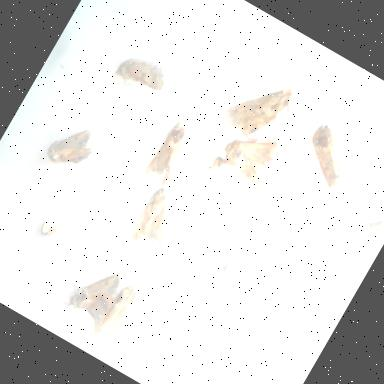abw: (215, 54, 308, 154), (44, 250, 134, 352), (288, 114, 371, 200), (209, 118, 289, 198), (80, 271, 150, 358), (121, 180, 191, 262), (136, 115, 204, 196), (39, 112, 107, 184), (108, 42, 176, 107)
